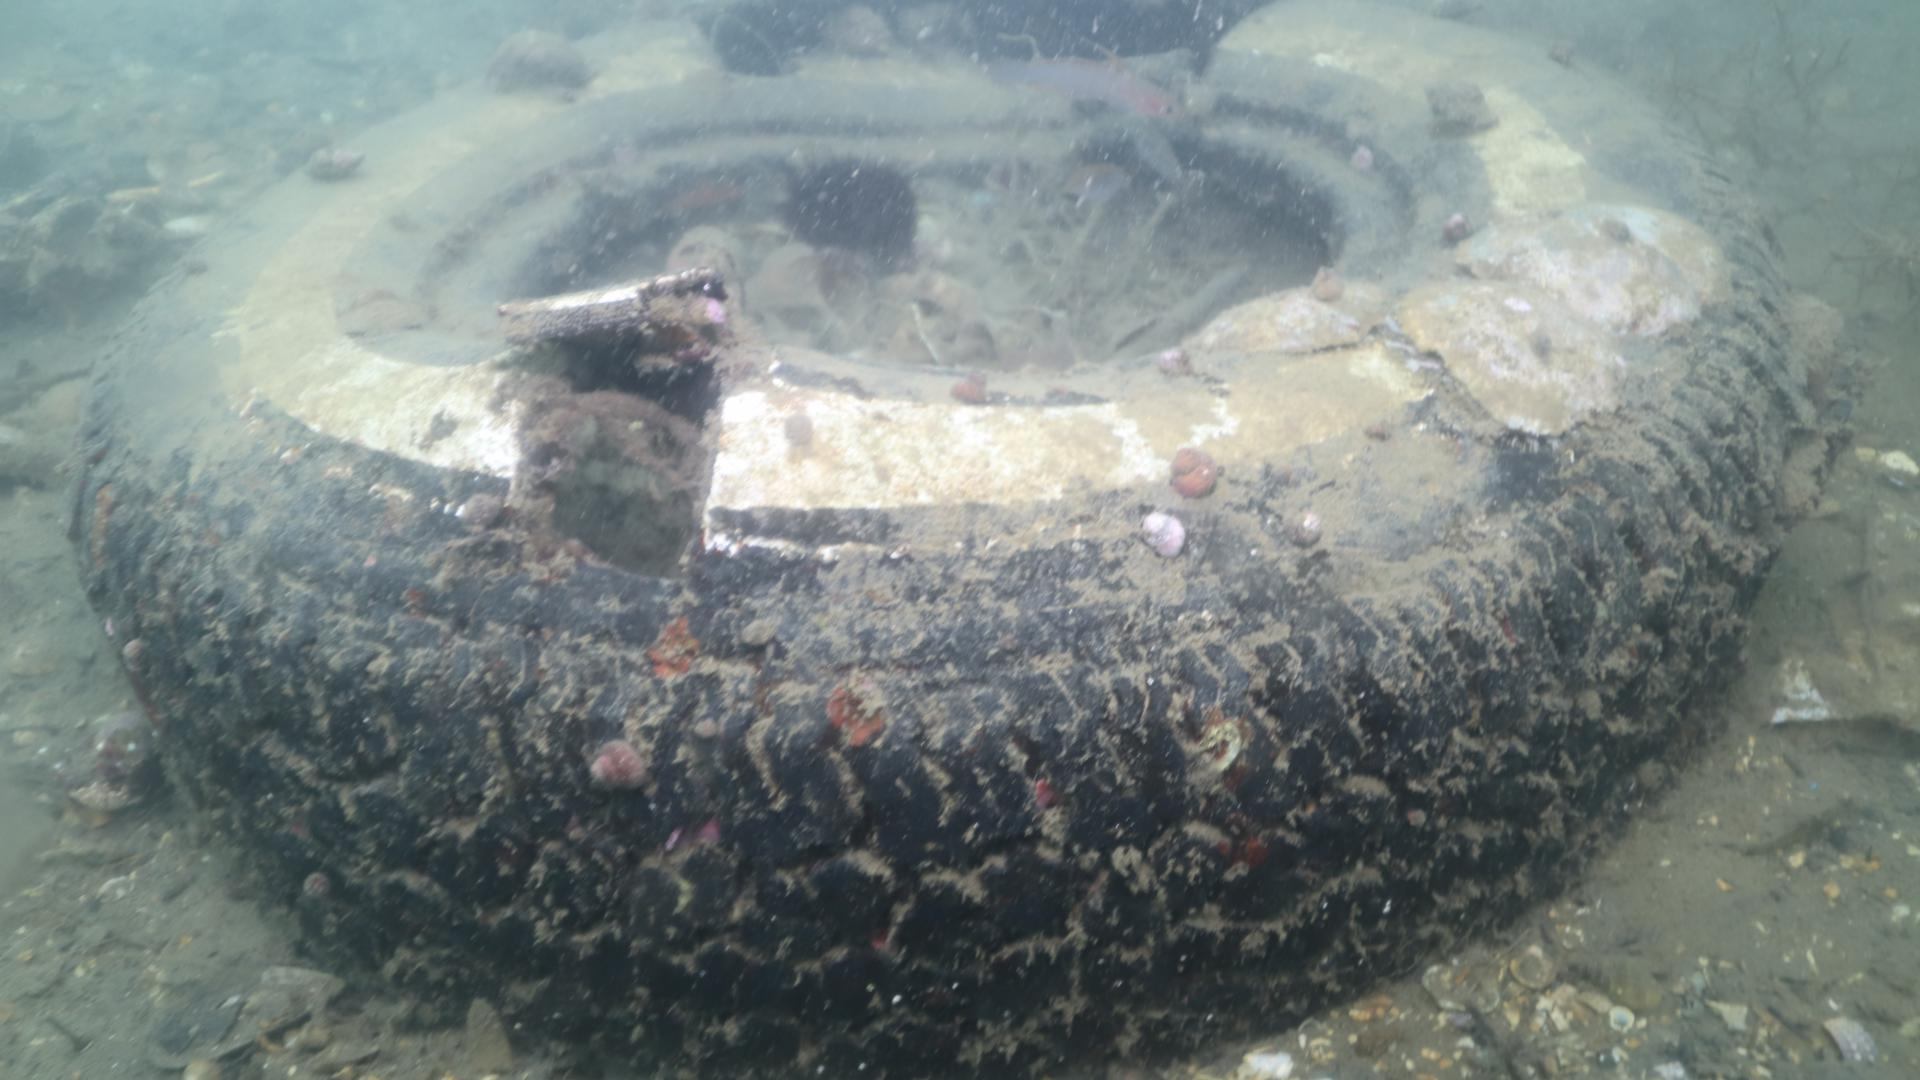tire: (55, 7, 1789, 1079)
